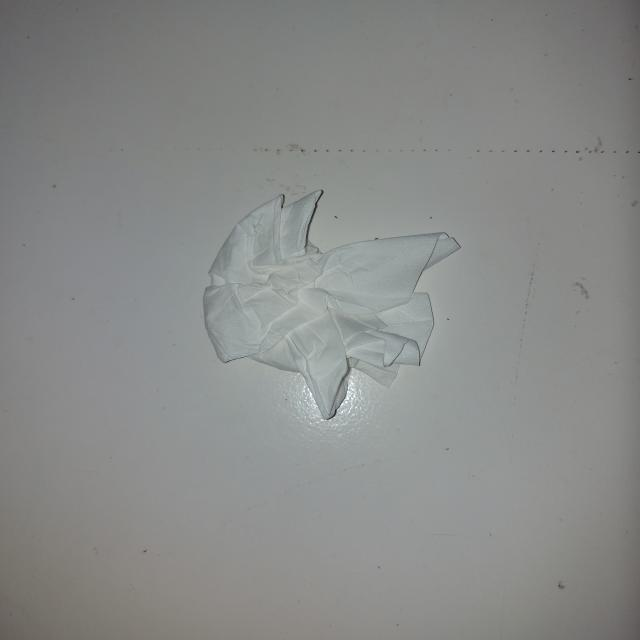Organik: (202, 192, 460, 419)
